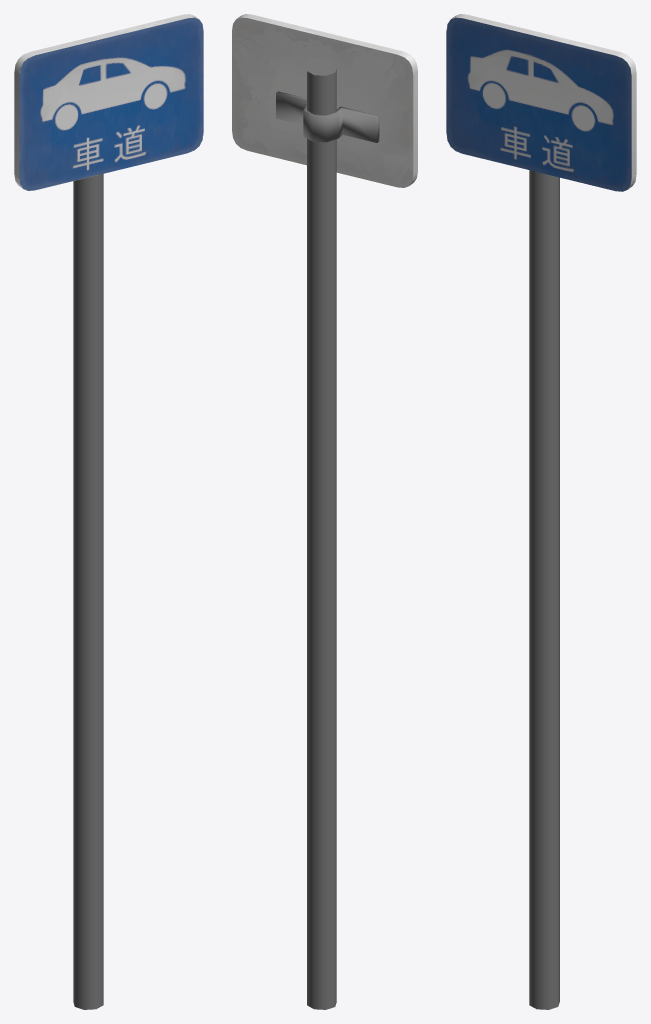
File: SM_sign_traffic_015.fbx
3 renders of one model, left to right at view 1: azimuth 30°, elevation 25°; view 2: azimuth 150°, elevation 25°; view 3: azimuth 330°, elevation 25°, orthographic. The views are drawn at different scales.
Parts seen in each view (by area): view 1: Object32703; view 2: Object32703; view 3: Object32703.
Boxes of the visible parts, x1=… form: Object32703: x1=14, y1=14, x2=203, y2=1009; Object32703: x1=232, y1=14, x2=417, y2=1009; Object32703: x1=446, y1=14, x2=636, y2=1009.
Bounding box in the file's own units: 17.39 × 87.88 × 3.95.
